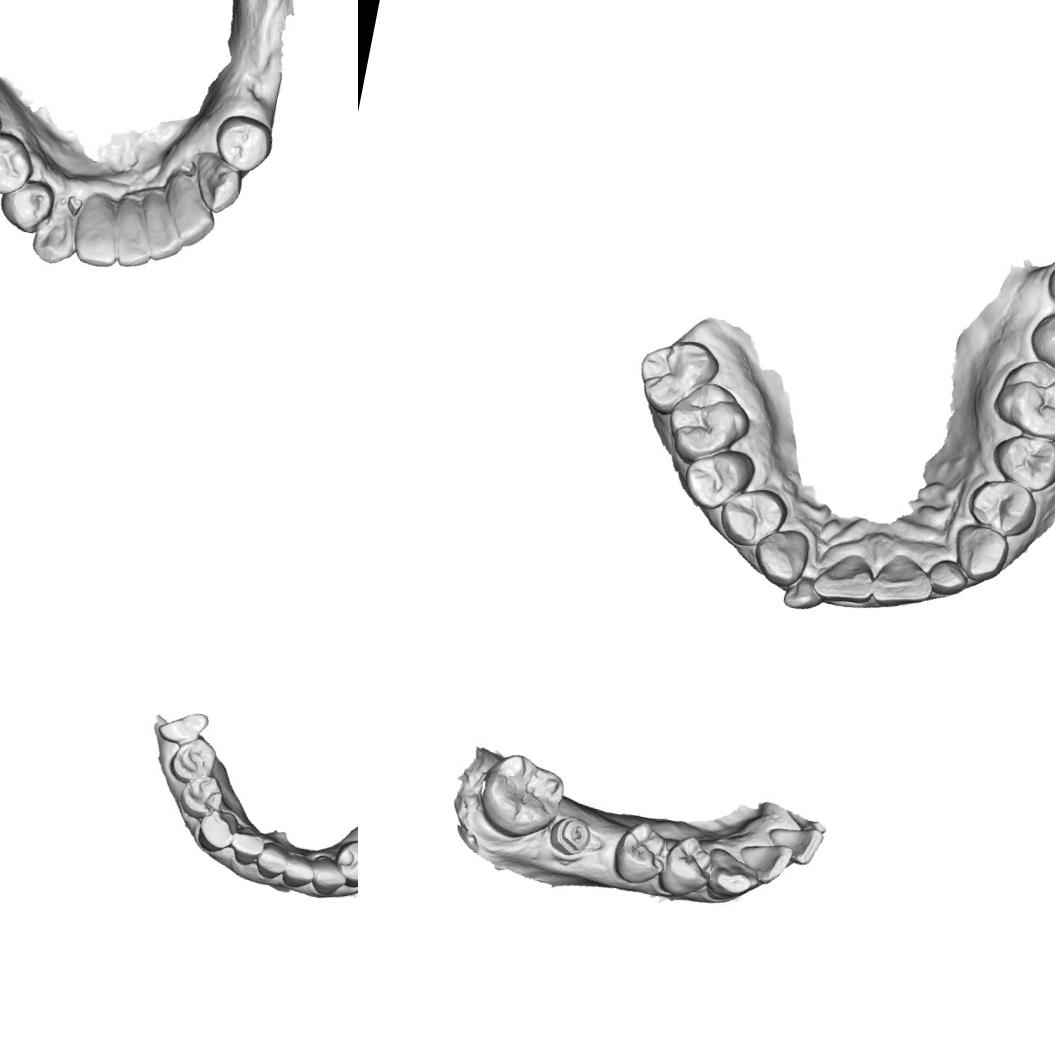canine: (747, 519, 814, 593), (184, 148, 250, 219), (698, 842, 766, 908), (948, 518, 1012, 584), (27, 199, 86, 269), (193, 804, 240, 856), (308, 852, 350, 899)
implant_minus: (546, 809, 594, 863)
incisor: (154, 166, 224, 252), (68, 189, 130, 272), (133, 188, 194, 268), (105, 190, 163, 272), (868, 548, 940, 610), (812, 548, 882, 608), (762, 816, 826, 870), (730, 836, 794, 888), (923, 552, 972, 598), (779, 569, 826, 611), (225, 823, 266, 868), (252, 838, 291, 882), (279, 849, 316, 890)
molar: (656, 372, 758, 473), (472, 746, 572, 847), (630, 329, 721, 424), (985, 350, 1055, 446), (1017, 301, 1055, 396)
premolar: (676, 440, 758, 516), (962, 471, 1046, 544), (712, 478, 790, 554), (605, 814, 676, 890), (652, 827, 721, 904), (206, 107, 276, 179), (987, 426, 1055, 498), (0, 172, 59, 239), (0, 127, 41, 201), (164, 732, 218, 788), (175, 768, 227, 822), (328, 835, 358, 891)
